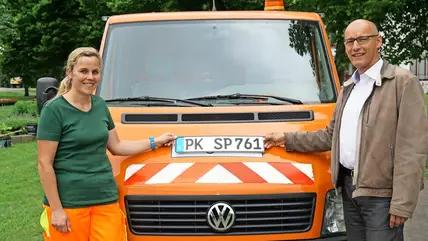license-plates: (176, 136, 265, 154)
